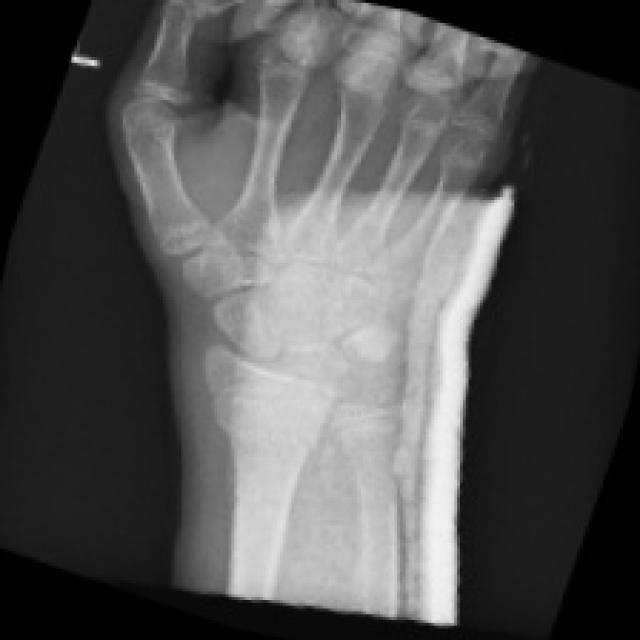fracture: (107, 72, 204, 147)
